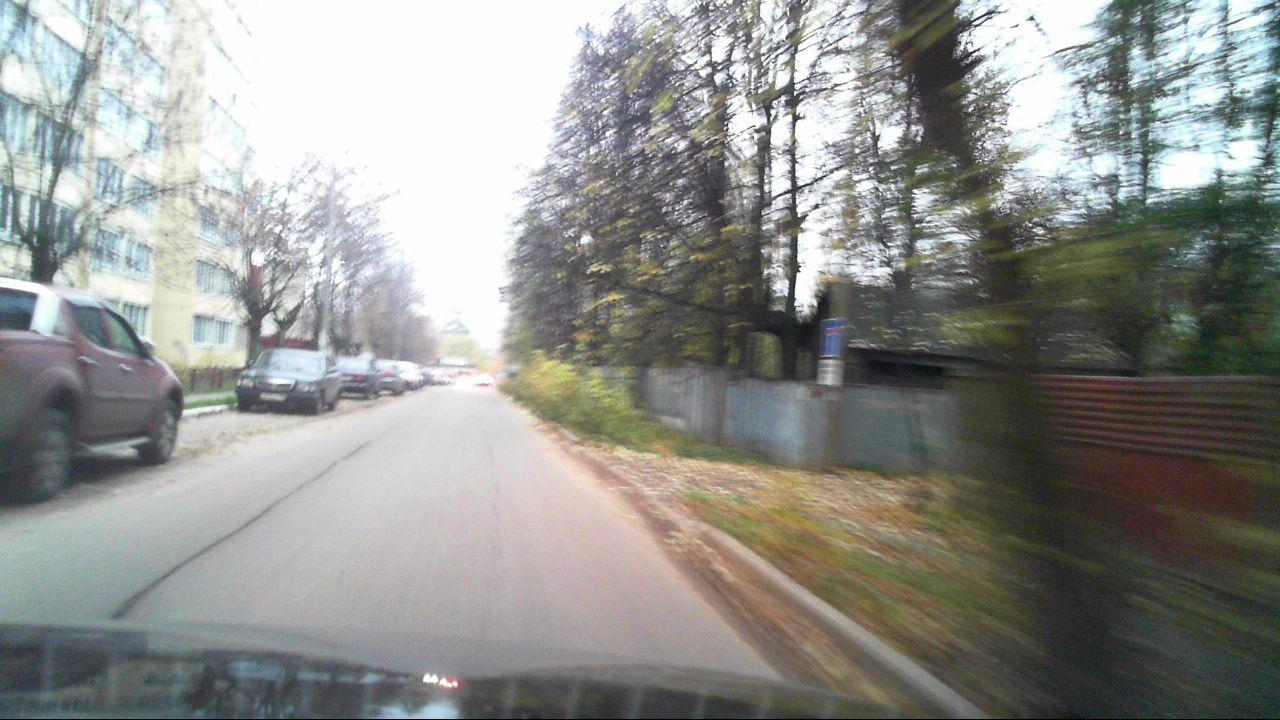6_8_1: (820, 316, 843, 358)
